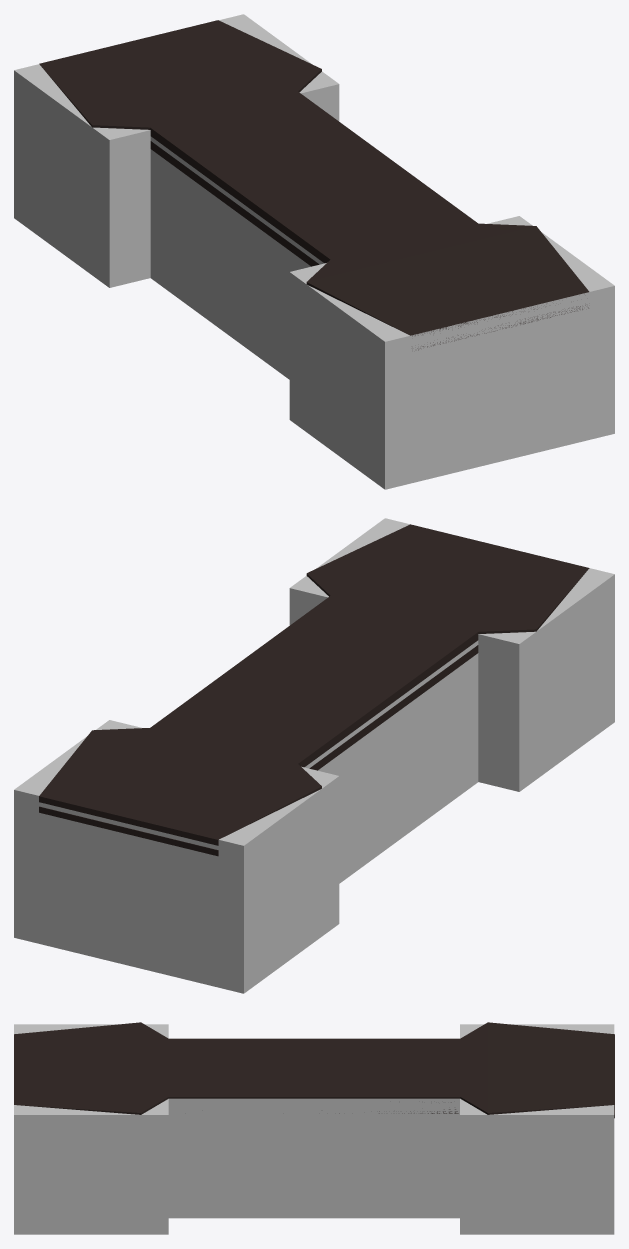
File: SM_Table_08.fbx
3 renders of one model, top to bottom at view 1: azimuth 30°, elevation 25°; view 2: azimuth 150°, elevation 25°; view 3: azimuth 270°, elevation 25°, orthographic. The views are drawn at different scales.
Visible parts, largest first — view 1: SM_Table_08_ConvexHulls, SM_Table_08; view 2: SM_Table_08_ConvexHulls, SM_Table_08; view 3: SM_Table_08_ConvexHulls, SM_Table_08.
Boxes of the visible parts, bbox=[...] form: SM_Table_08_ConvexHulls: bbox=[14, 14, 614, 489]; SM_Table_08: bbox=[39, 20, 589, 350]; SM_Table_08_ConvexHulls: bbox=[14, 518, 614, 993]; SM_Table_08: bbox=[39, 524, 589, 856]; SM_Table_08_ConvexHulls: bbox=[14, 1024, 614, 1234]; SM_Table_08: bbox=[14, 1022, 614, 1118].
Bounding box in the file's own units: 136 × 381 × 85.09.
2 materials, 1 textured.
